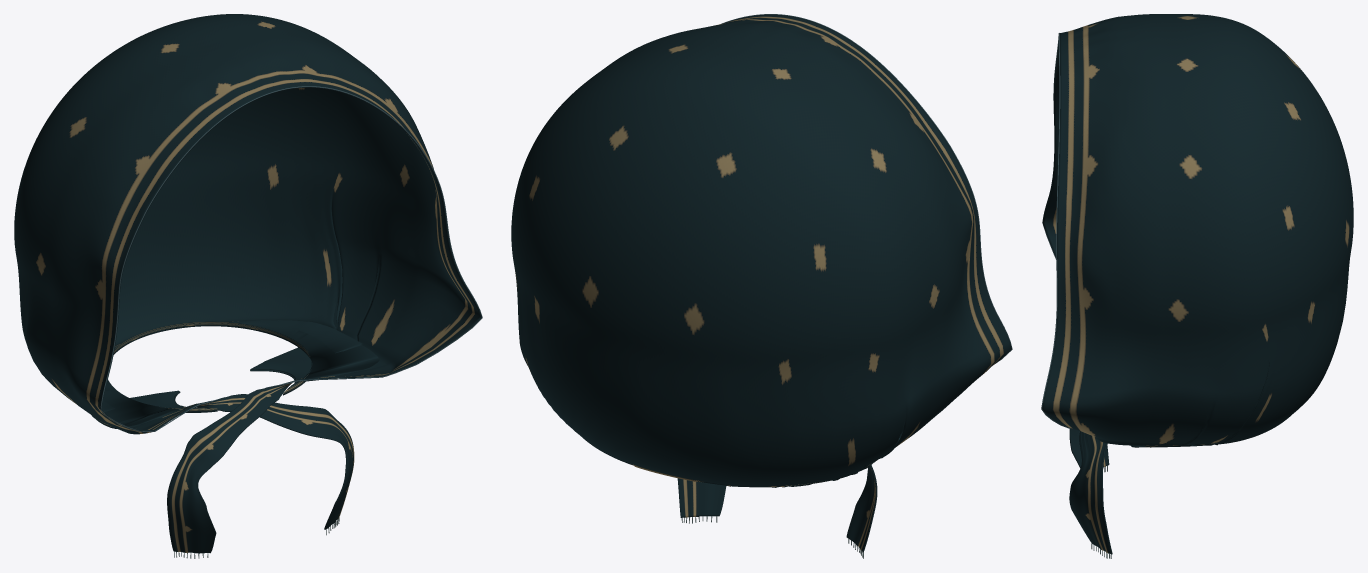
Rendered from Feminine-side-sweep-sweatshirt-pashmina250-headgear.glb.
3 renders of one model, left to right at view 1: azimuth 30°, elevation 25°; view 2: azimuth 150°, elevation 25°; view 3: azimuth 270°, elevation 25°, orthographic. The views are drawn at different scales.
Visible parts, largest first — view 1: 226 headgear / Headwear / continuous woven pashmina239, 226 headgear / Headwear / face edge239; view 2: 226 headgear / Headwear / continuous woven pashmina239, 226 headgear / Headwear / face edge239; view 3: 226 headgear / Headwear / continuous woven pashmina239, 226 headgear / Headwear / face edge239.
Part boxes in pixels (box(x1,y1,x2,y2)): 226 headgear / Headwear / continuous woven pashmina239: box(14, 14, 481, 553); 226 headgear / Headwear / face edge239: box(100, 86, 482, 431); 226 headgear / Headwear / continuous woven pashmina239: box(511, 14, 1011, 552); 226 headgear / Headwear / face edge239: box(721, 14, 1012, 364); 226 headgear / Headwear / continuous woven pashmina239: box(1042, 14, 1353, 554); 226 headgear / Headwear / face edge239: box(1041, 33, 1072, 428).
Bounding box in the file's own units: 1.15 × 1.39 × 0.8114.
3 materials, 1 textured.
